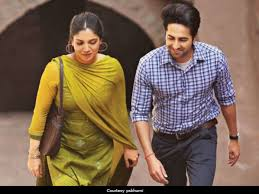Caution: (27, 3, 240, 188)
